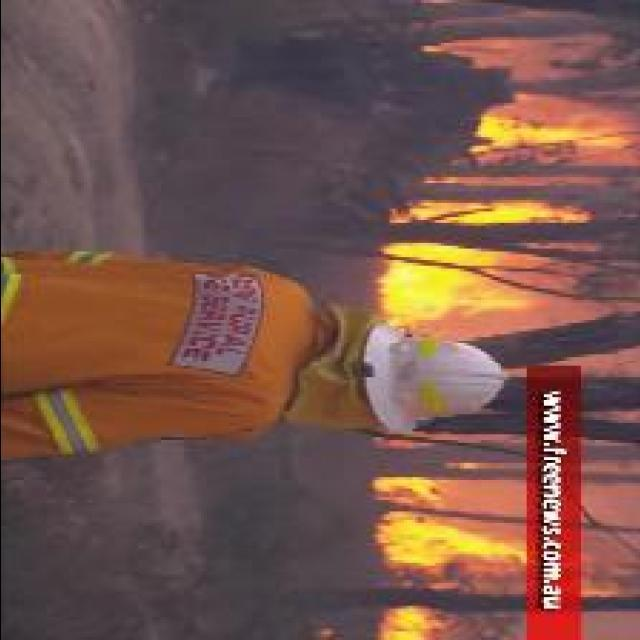Fire: (372, 477, 526, 640), (382, 197, 582, 314), (481, 110, 628, 147)
